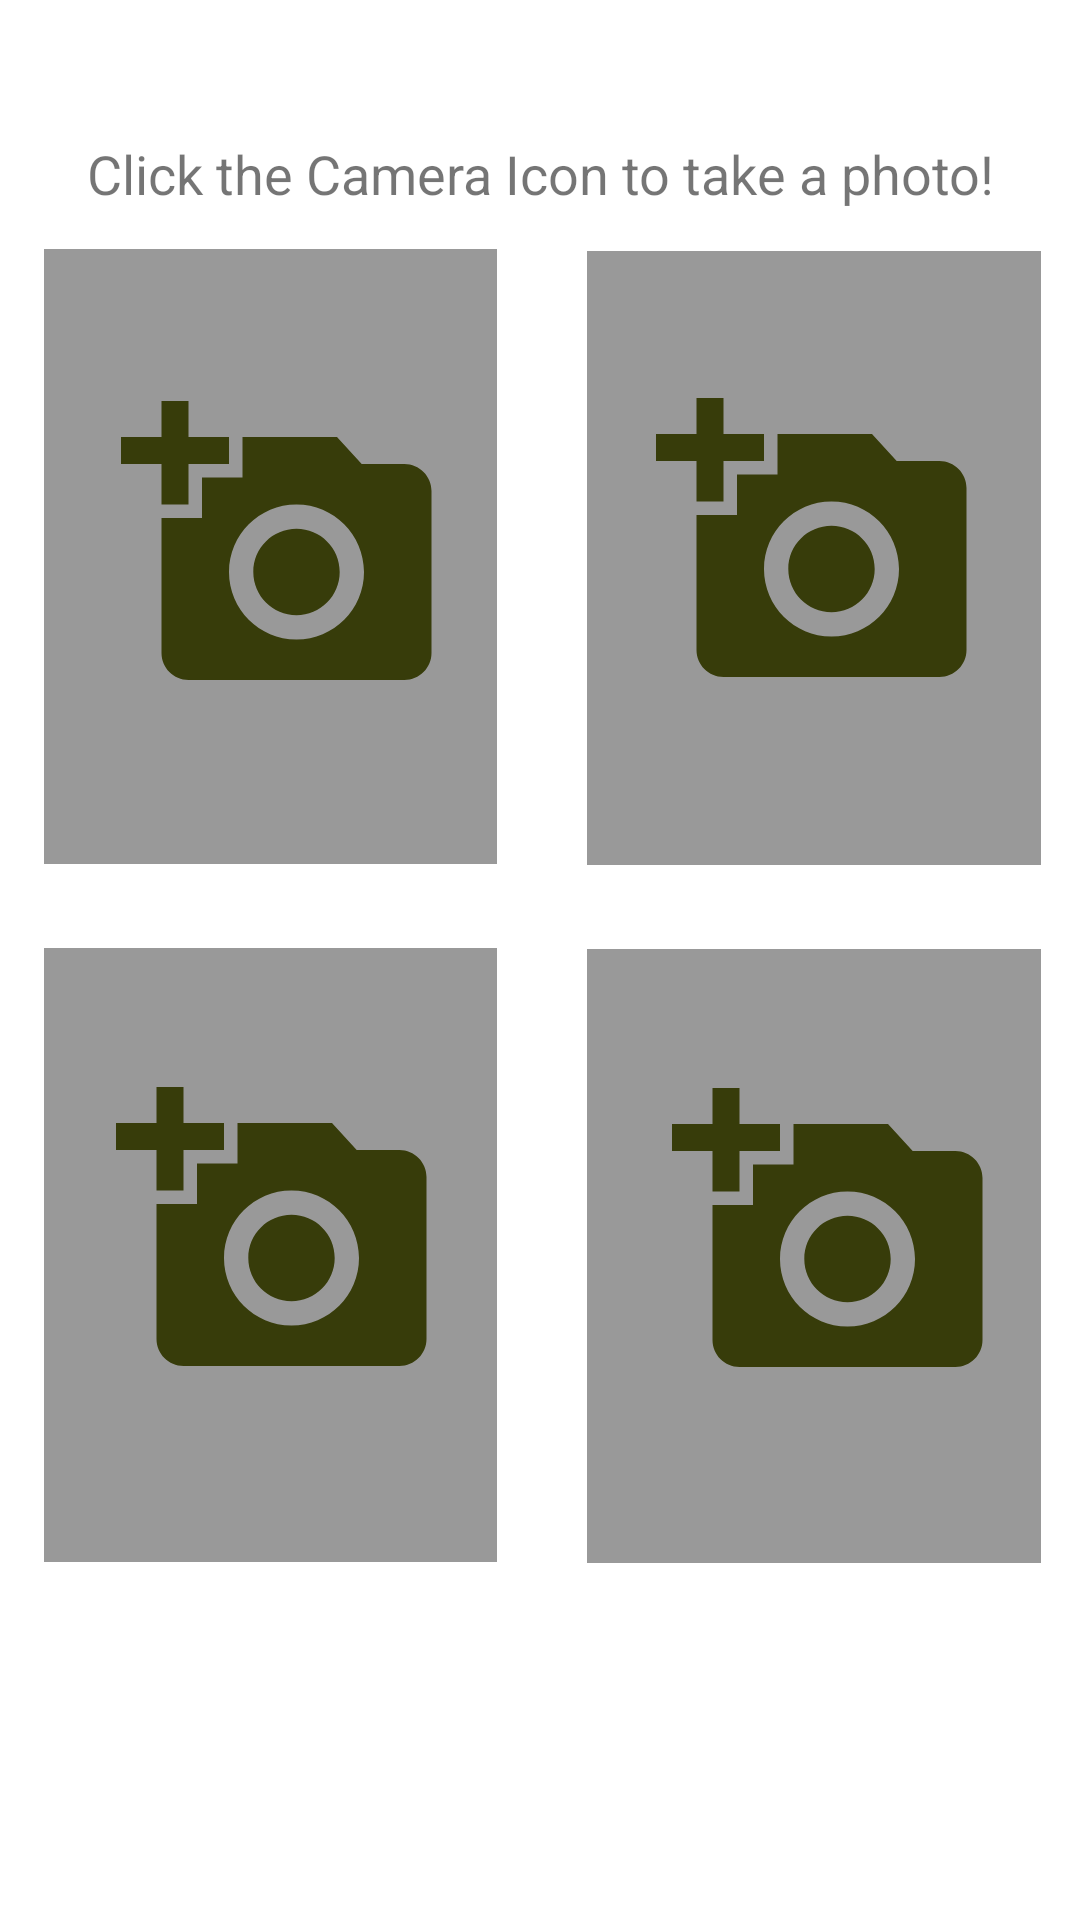

Icon click points for this 1080w x 1920h phone screenshot, format [x,y]:
id camera: [811,537], [276,540], [271,1226], [827,1227]
